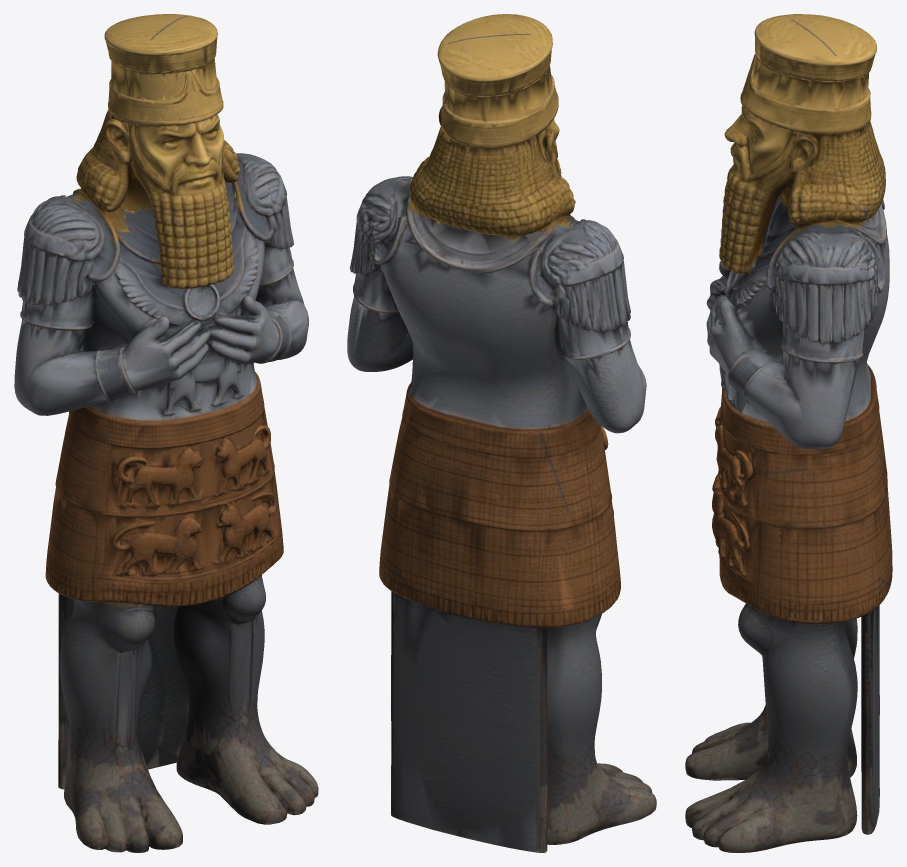
File: statue_v11f_lod.glb
The picture shows the model from 3 angles, left to right: view 1: azimuth 30°, elevation 25°; view 2: azimuth 150°, elevation 25°; view 3: azimuth 270°, elevation 25°; orthographic projection.
Parts seen in each view (by area): view 1: chest_silver, belly_bronze, head_gold, legs_iron, feet_clay; view 2: chest_silver, belly_bronze, legs_iron, head_gold, feet_clay; view 3: belly_bronze, chest_silver, head_gold, legs_iron, feet_clay.
Part boxes in pixels (x1,y1,x2,y2): chest_silver: (14, 153, 308, 420); belly_bronze: (45, 372, 283, 607); head_gold: (71, 14, 244, 288); legs_iron: (58, 575, 265, 756); feet_clay: (58, 694, 318, 852); chest_silver: (347, 176, 646, 433); belly_bronze: (379, 382, 620, 628); legs_iron: (391, 592, 601, 785); head_gold: (408, 14, 575, 242); feet_clay: (391, 749, 656, 852); belly_bronze: (712, 365, 892, 623); chest_silver: (706, 196, 889, 448); head_gold: (719, 14, 885, 274); legs_iron: (738, 603, 879, 773); feet_clay: (685, 705, 879, 852).
Bounding box in the file's own units: 0.3853 × 1 × 0.2446.
1 material, 1 textured.
